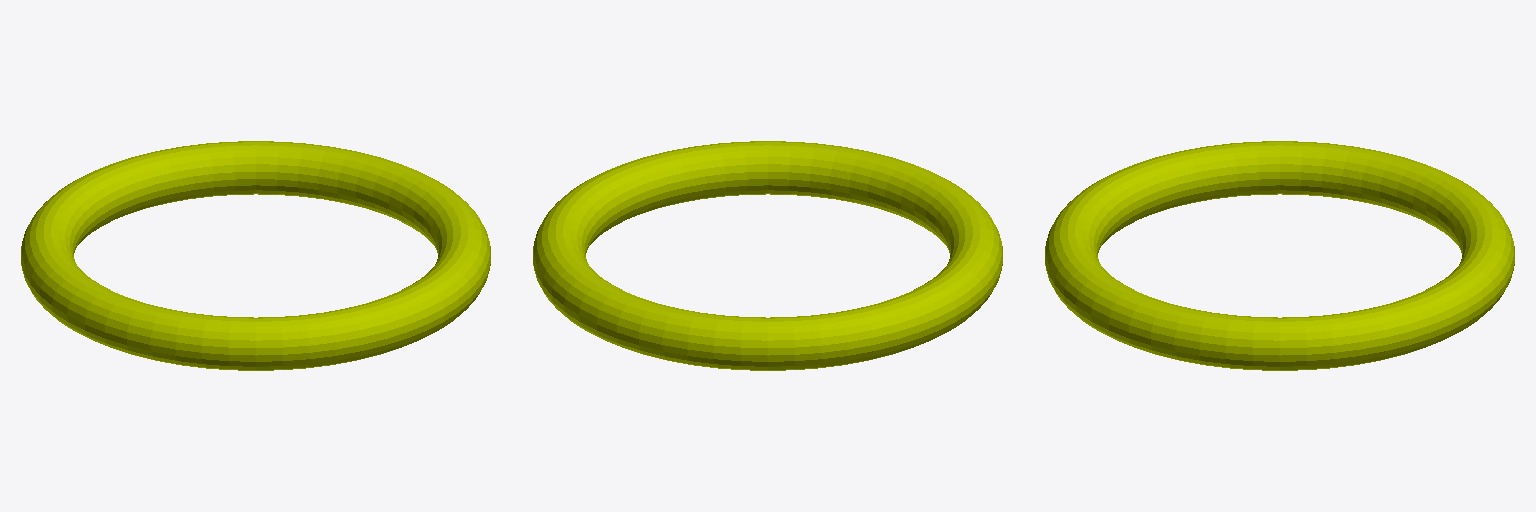
The model's file is anti_gravity_ring2.obj.
The picture shows the model from 3 angles: view 1: azimuth 30°, elevation 25°; view 2: azimuth 150°, elevation 25°; view 3: azimuth 270°, elevation 25°; orthographic projection.
Visible parts, largest first — view 1: Torus; view 2: Torus; view 3: Torus.
Part boxes in pixels (x1,y1,x2,y2): Torus: (21,141,490,370); Torus: (533,141,1002,370); Torus: (1045,141,1514,370).
Size of the model in its own units: 2.76 by 0.3099 by 2.76.